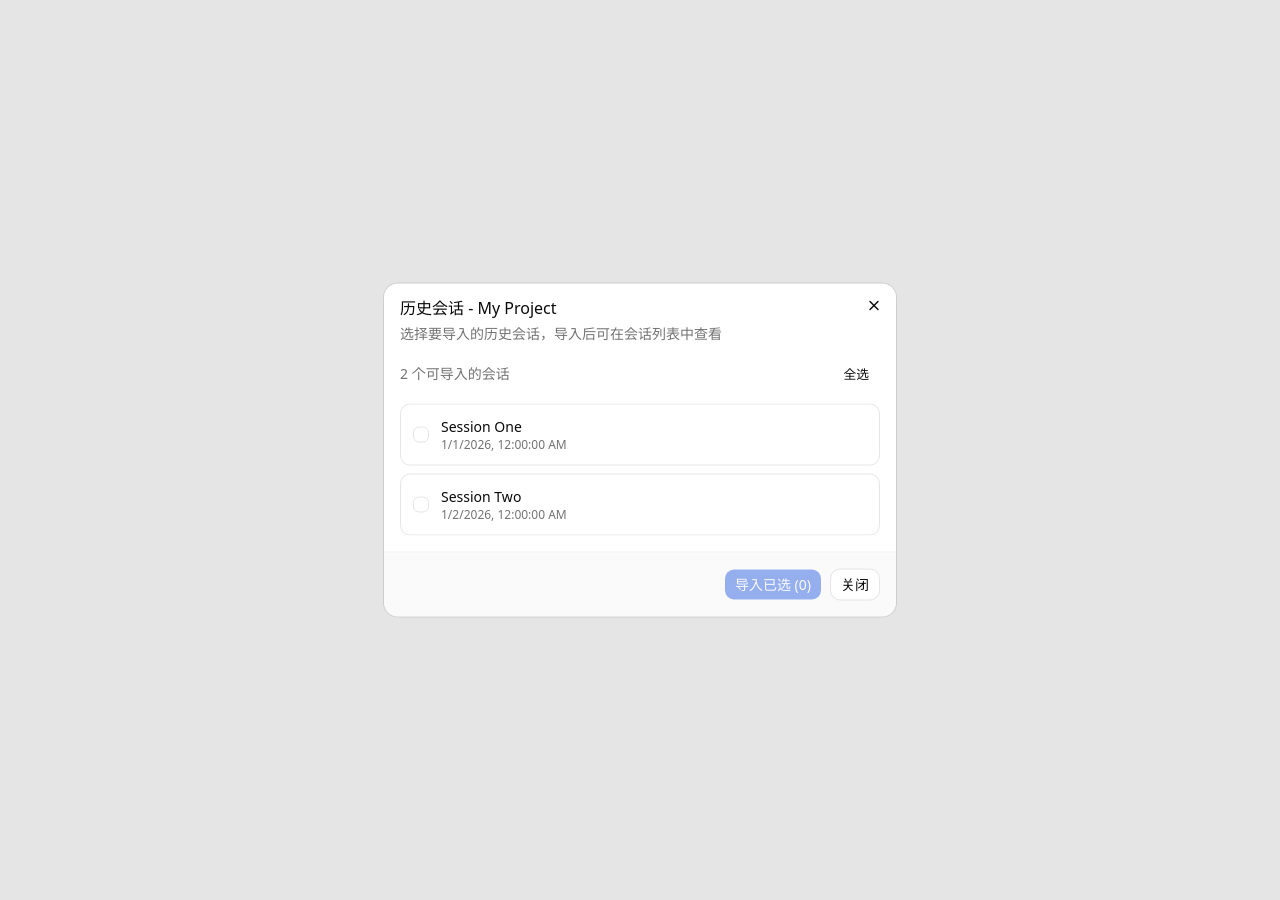
Scenario: HistorySessionDialog › should enable import button when sessions selected
Click the checkbox next to "Session One" at (421, 434), box x1=413 y1=426 x2=429 y2=442
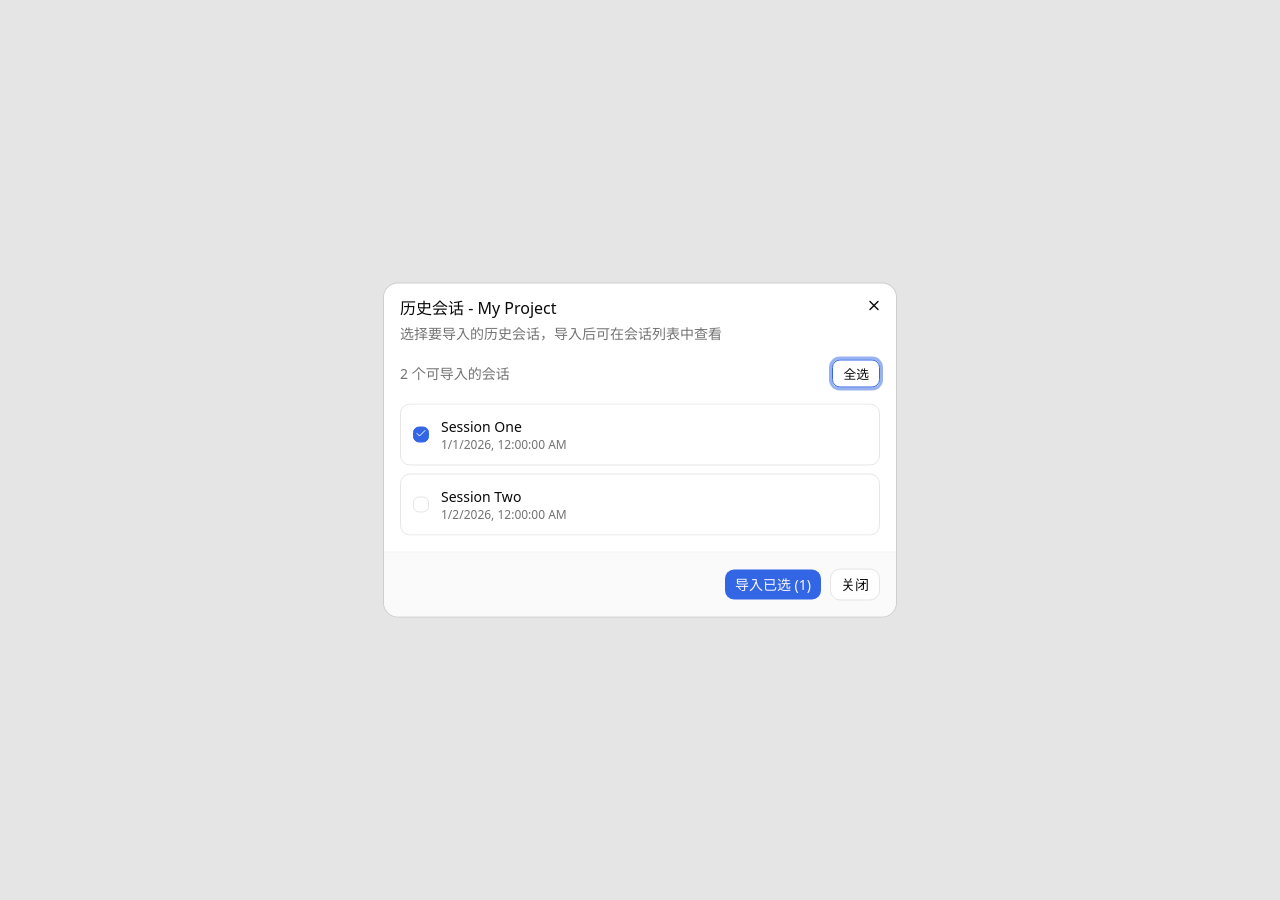
Now the button "导入已选 (1)" is enabled, box x1=724 y1=568 x2=822 y2=600
